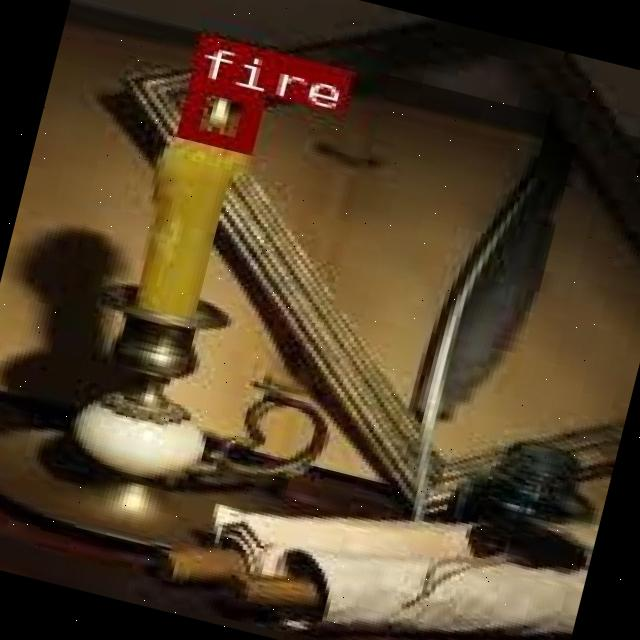fire: (176, 74, 260, 150)
